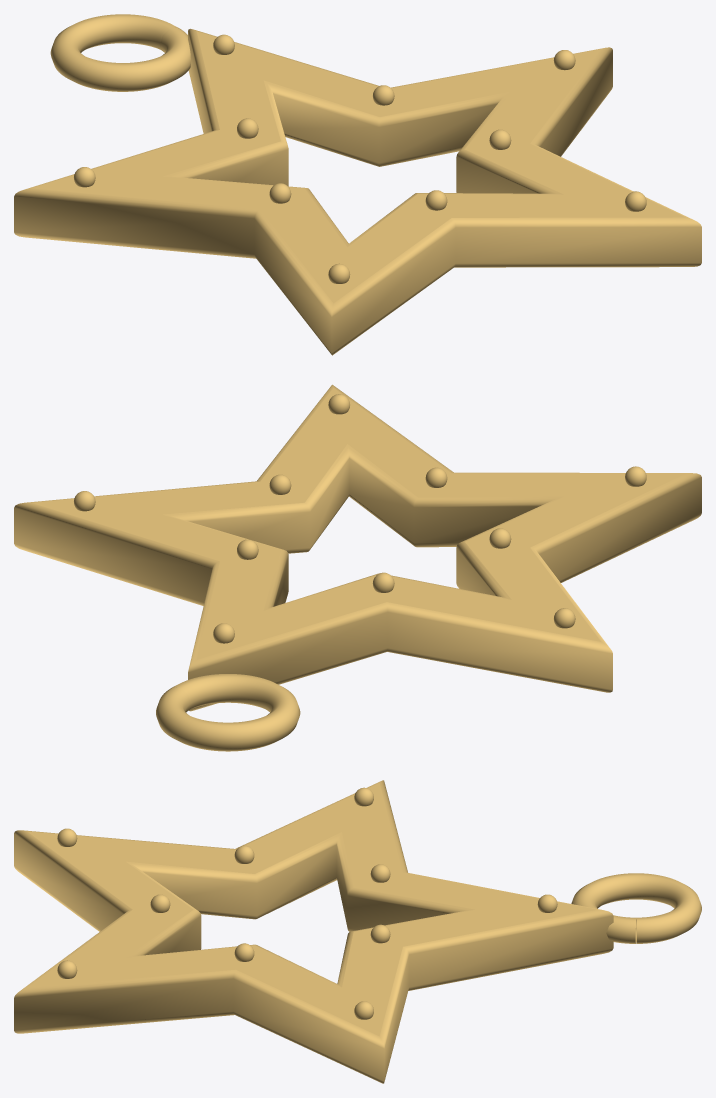
File: pendant-06-gold.glb
3 renders of one model, top to bottom at view 1: azimuth 30°, elevation 25°; view 2: azimuth 150°, elevation 25°; view 3: azimuth 270°, elevation 25°, orthographic. The views are drawn at different scales.
Parts seen in each view (by area): view 1: Cast relief.004, Wire detail.002; view 2: Cast relief.004, Wire detail.002; view 3: Cast relief.004, Wire detail.002.
Boxes of the visible parts, x1=… form: Cast relief.004: x1=14, y1=28, x2=701, y2=355; Wire detail.002: x1=50, y1=14, x2=190, y2=91; Cast relief.004: x1=14, y1=384, x2=701, y2=711; Wire detail.002: x1=156, y1=674, x2=300, y2=751; Cast relief.004: x1=14, y1=780, x2=613, y2=1083; Wire detail.002: x1=571, y1=873, x2=701, y2=943.
Bounding box in the file's own units: 0.0114 × 0.00118 × 0.0124.
